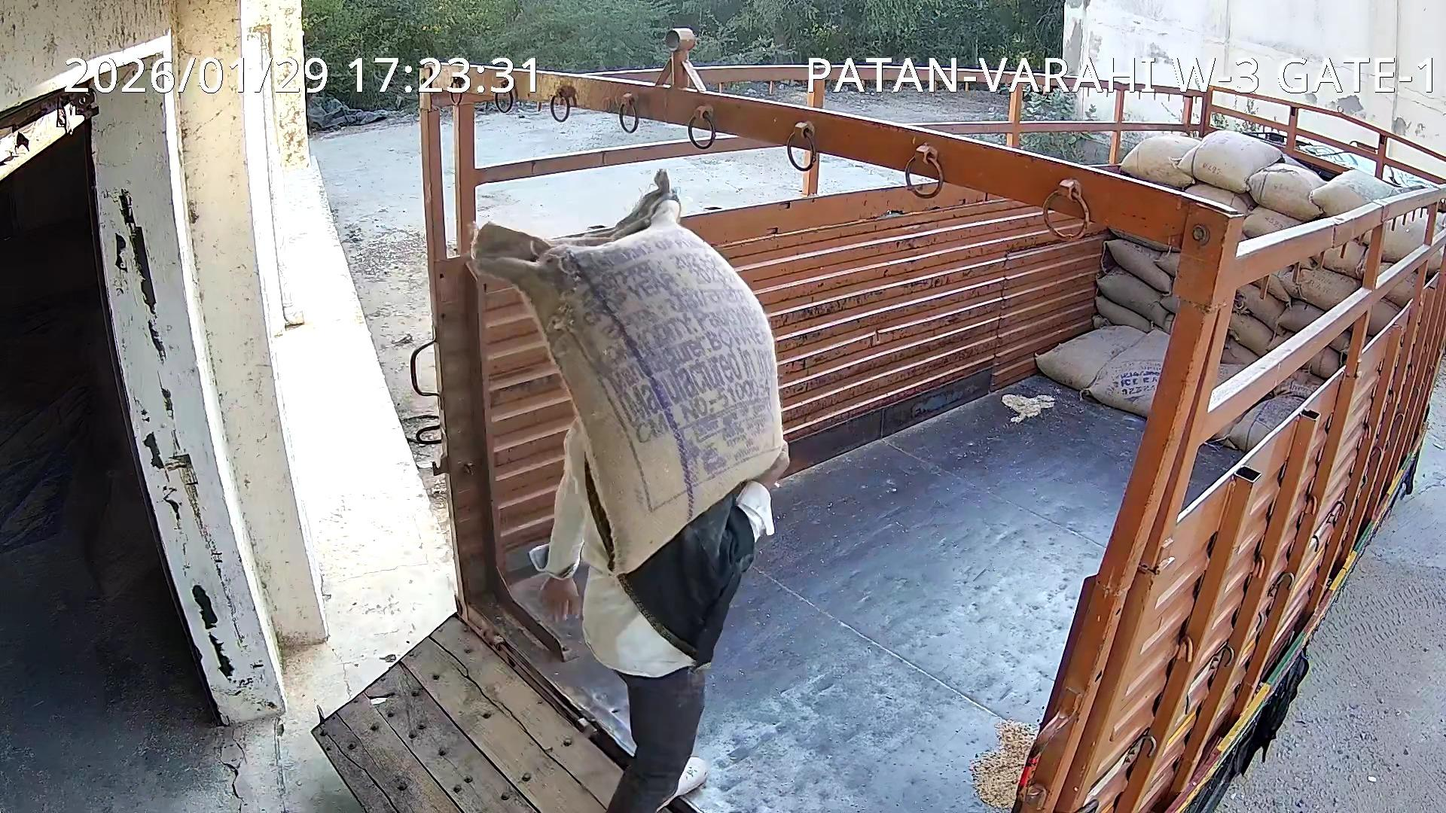Sack: (473, 170, 782, 569)
